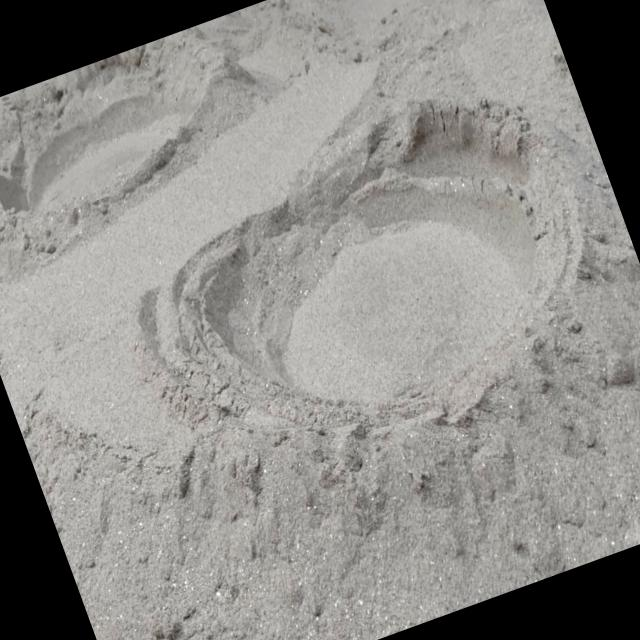C20: (151, 98, 581, 420), (0, 25, 217, 213)
